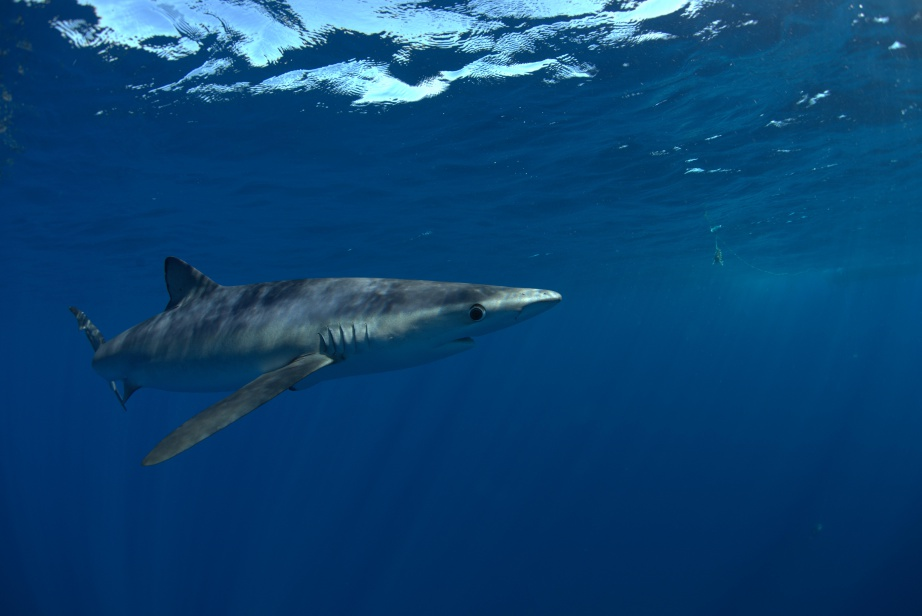Azul: (55, 229, 592, 481)
